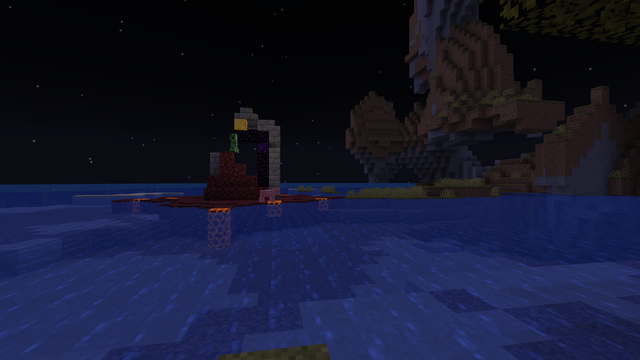cochons: (261, 189, 273, 201)
creepers: (229, 132, 237, 152)
